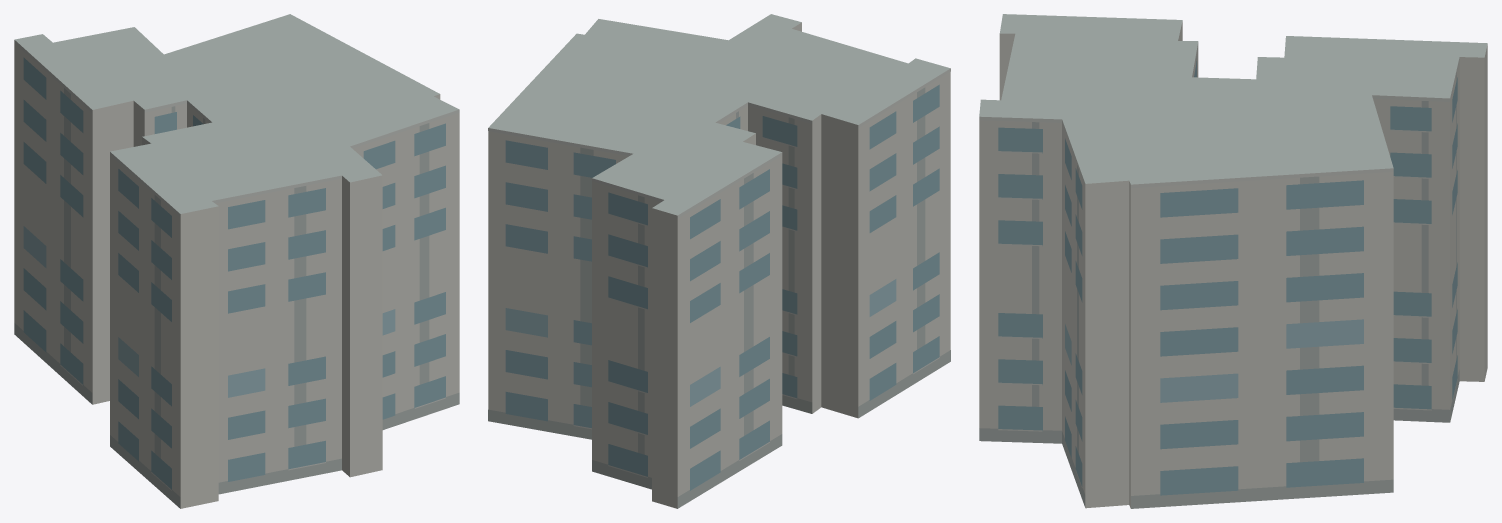
Rendered from survey-upis-32573291.glb.
The picture shows the model from 3 angles, left to right: view 1: azimuth 30°, elevation 25°; view 2: azimuth 150°, elevation 25°; view 3: azimuth 270°, elevation 25°; orthographic projection. The views are drawn at different scales.
Parts seen in each view (by area): view 1: survey-upis-32573291.tmp; view 2: survey-upis-32573291.tmp; view 3: survey-upis-32573291.tmp.
Boxes of the visible parts, x1,y1,x2,y2 form: survey-upis-32573291.tmp: (14,14,459,508); survey-upis-32573291.tmp: (488,14,950,508); survey-upis-32573291.tmp: (979,14,1487,508).
Size of the model in its own units: 24.83 by 22 by 31.27.
